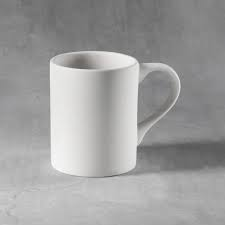mug: (10, 48, 198, 196)
